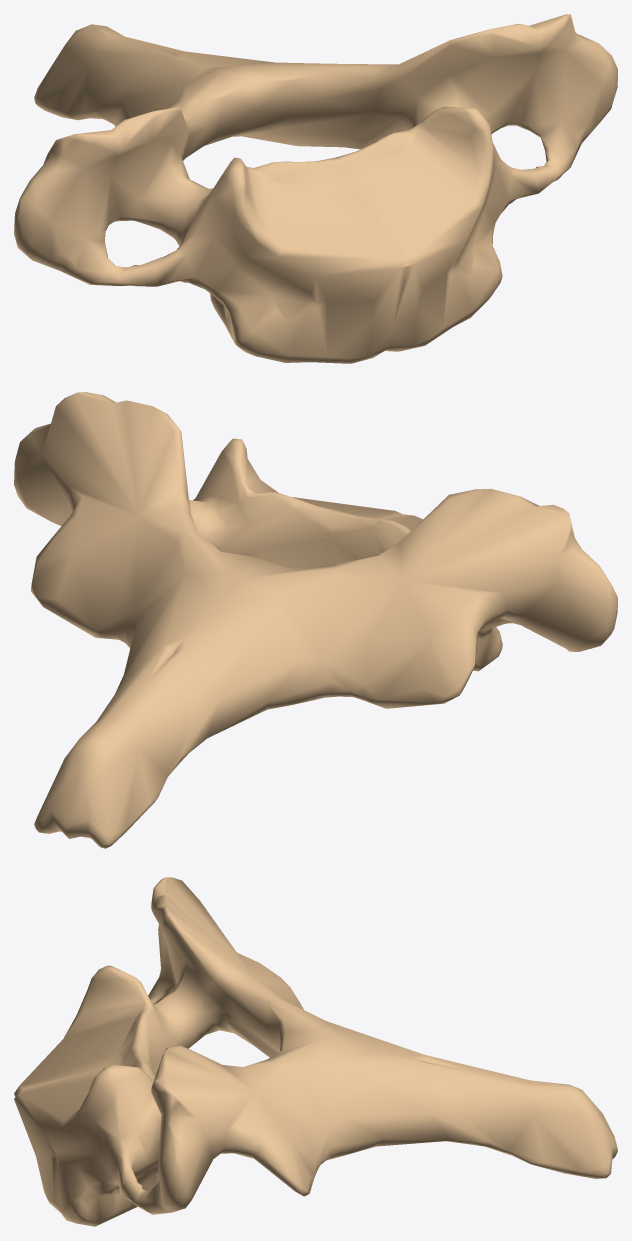
Rendered from C7_Generated_Mesh_From_X3D.015.glb.
3 views of the same model, one above another, from view 1: azimuth 30°, elevation 25°; view 2: azimuth 150°, elevation 25°; view 3: azimuth 270°, elevation 25° (orthographic). The views are drawn at different scales.
Visible parts, largest first — view 1: C7_Generated_Mesh_From_X3D.015; view 2: C7_Generated_Mesh_From_X3D.015; view 3: C7_Generated_Mesh_From_X3D.015.
Boxes of the visible parts, x1,y1,x2,y2 form: C7_Generated_Mesh_From_X3D.015: [14, 14, 617, 363]; C7_Generated_Mesh_From_X3D.015: [14, 392, 617, 848]; C7_Generated_Mesh_From_X3D.015: [14, 877, 617, 1226].
Bounding box in the file's own units: 0.0712 × 0.027 × 0.0703.
